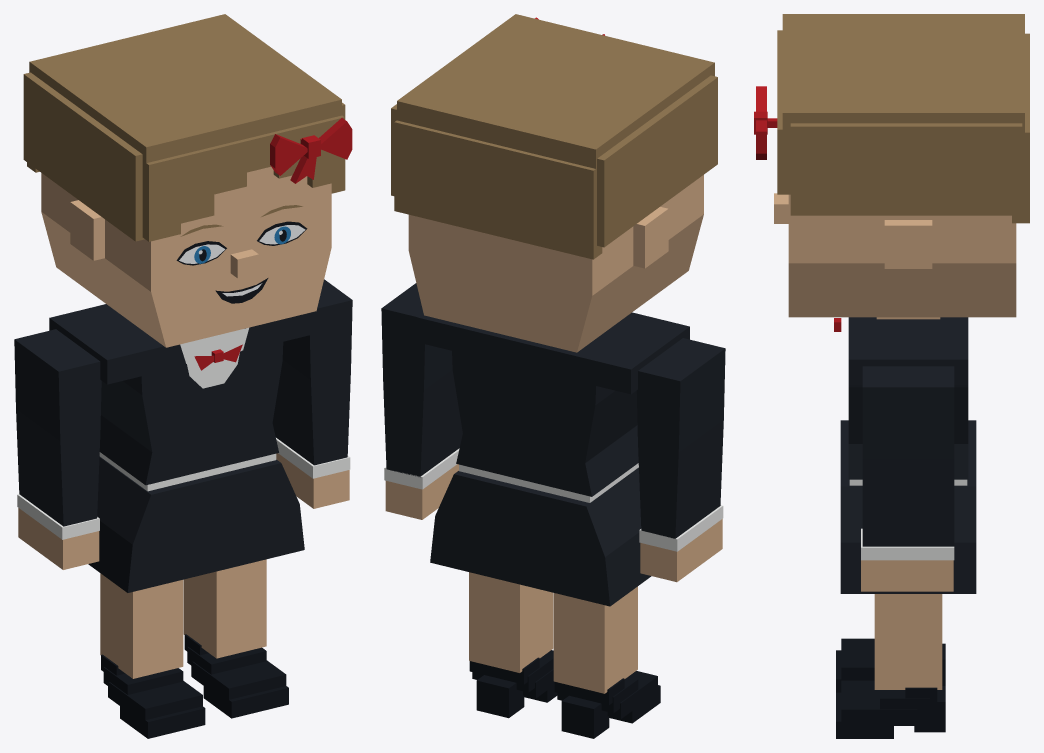
File: female_short.glb
The picture shows the model from 3 angles, left to right: view 1: azimuth 30°, elevation 25°; view 2: azimuth 150°, elevation 25°; view 3: azimuth 270°, elevation 25°; orthographic projection. The views are drawn at different scales.
Visible parts, largest first — view 1: char_torso_visual, char_hair_visual, char_head_visual, char_arm_negx_visual, char_leg_negx_visual, char_leg_posx_visual, char_arm_posx_visual, char_bow_visual, char_hand_negx_visual, char_hand_posx_visual, char_eye_posx_visual, char_eye_negx_visual (+1 smaller); view 2: char_hair_visual, char_torso_visual, char_head_visual, char_arm_negx_visual, char_arm_posx_visual, char_leg_negx_visual, char_leg_posx_visual, char_hand_negx_visual, char_hand_posx_visual; view 3: char_hair_visual, char_head_visual, char_arm_posx_visual, char_torso_visual, char_leg_posx_visual, char_hand_posx_visual, char_leg_negx_visual, char_bow_visual.
Boxes of the visible parts, x1=… form: char_torso_visual: x1=49, y1=304, x2=317, y2=592; char_hair_visual: x1=23, y1=14, x2=345, y2=241; char_head_visual: x1=41, y1=167, x2=331, y2=347; char_arm_negx_visual: x1=14, y1=329, x2=101, y2=539; char_leg_negx_visual: x1=100, y1=573, x2=205, y2=738; char_leg_posx_visual: x1=183, y1=559, x2=288, y2=718; char_arm_posx_visual: x1=272, y1=279, x2=352, y2=478; char_bow_visual: x1=270, y1=118, x2=352, y2=183; char_hand_negx_visual: x1=18, y1=508, x2=99, y2=569; char_hand_posx_visual: x1=276, y1=453, x2=349, y2=508; char_eye_posx_visual: x1=257, y1=221, x2=307, y2=245; char_eye_negx_visual: x1=176, y1=241, x2=226, y2=265; char_hair_visual: x1=391, y1=14, x2=717, y2=259; char_torso_visual: x1=417, y1=312, x2=689, y2=606; char_head_visual: x1=408, y1=175, x2=703, y2=352; char_arm_negx_visual: x1=636, y1=338, x2=725, y2=551; char_arm_posx_visual: x1=381, y1=283, x2=462, y2=489; char_leg_negx_visual: x1=553, y1=586, x2=660, y2=738; char_leg_posx_visual: x1=469, y1=572, x2=557, y2=718; char_hand_negx_visual: x1=640, y1=519, x2=722, y2=582; char_hand_posx_visual: x1=385, y1=464, x2=458, y2=519; char_hair_visual: x1=777, y1=14, x2=1029, y2=223; char_head_visual: x1=774, y1=193, x2=1016, y2=319; char_arm_posx_visual: x1=861, y1=366, x2=954, y2=560; char_torso_visual: x1=834, y1=317, x2=976, y2=593; char_leg_posx_visual: x1=836, y1=594, x2=945, y2=738; char_hand_posx_visual: x1=861, y1=560, x2=953, y2=591; char_leg_negx_visual: x1=836, y1=638, x2=945, y2=692; char_bow_visual: x1=754, y1=86, x2=777, y2=159.
Bounding box in the file's own units: 0.88 × 1.77 × 0.6895.
